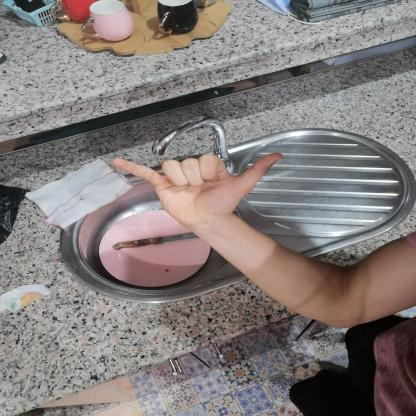YA: (97, 143, 294, 230)
